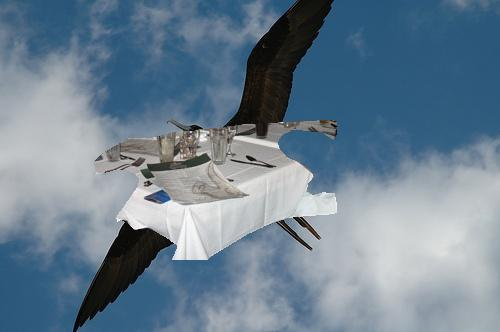tampered: (94, 121, 337, 260)
